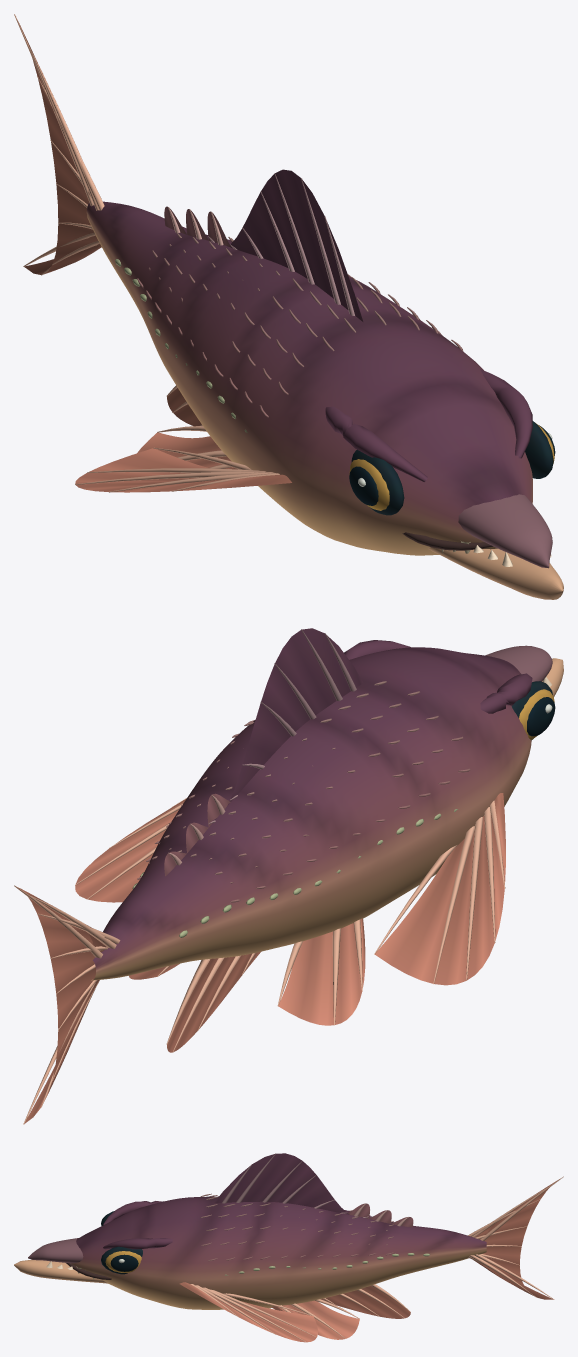
Rendered from hunter.glb.
The picture shows the model from 3 angles, top to bottom: view 1: azimuth 30°, elevation 25°; view 2: azimuth 150°, elevation 25°; view 3: azimuth 270°, elevation 25°; orthographic projection. The views are drawn at different scales.
Parts seen in each view (by area): view 1: body, dorsal, tail, fin_-1, jaw, fins; view 2: body, fin_-1, fins, dorsal, tail, fin_1; view 3: body, dorsal, tail, fins, fin_1, jaw.
Boxes of the visible parts, <box> form: body: <box>86,201,555,568</box>; dorsal: <box>164,169,363,321</box>; tail: <box>14,14,104,275</box>; fin_-1: <box>75,447,291,492</box>; jaw: <box>428,545,563,599</box>; fins: <box>137,385,237,469</box>; body: <box>91,640,555,980</box>; fin_-1: <box>374,793,505,985</box>; fins: <box>129,918,365,1052</box>; dorsal: <box>164,628,363,876</box>; tail: <box>14,885,120,1124</box>; fin_1: <box>75,798,186,902</box>; body: <box>28,1193,486,1309</box>; dorsal: <box>214,1153,413,1227</box>; tail: <box>468,1176,563,1299</box>; fins: <box>271,1284,410,1339</box>; fin_1: <box>179,1282,317,1342</box>; jaw: <box>14,1259,107,1283</box>.
Bounding box in the file's own units: 2.06 × 1.63 × 4.91.
